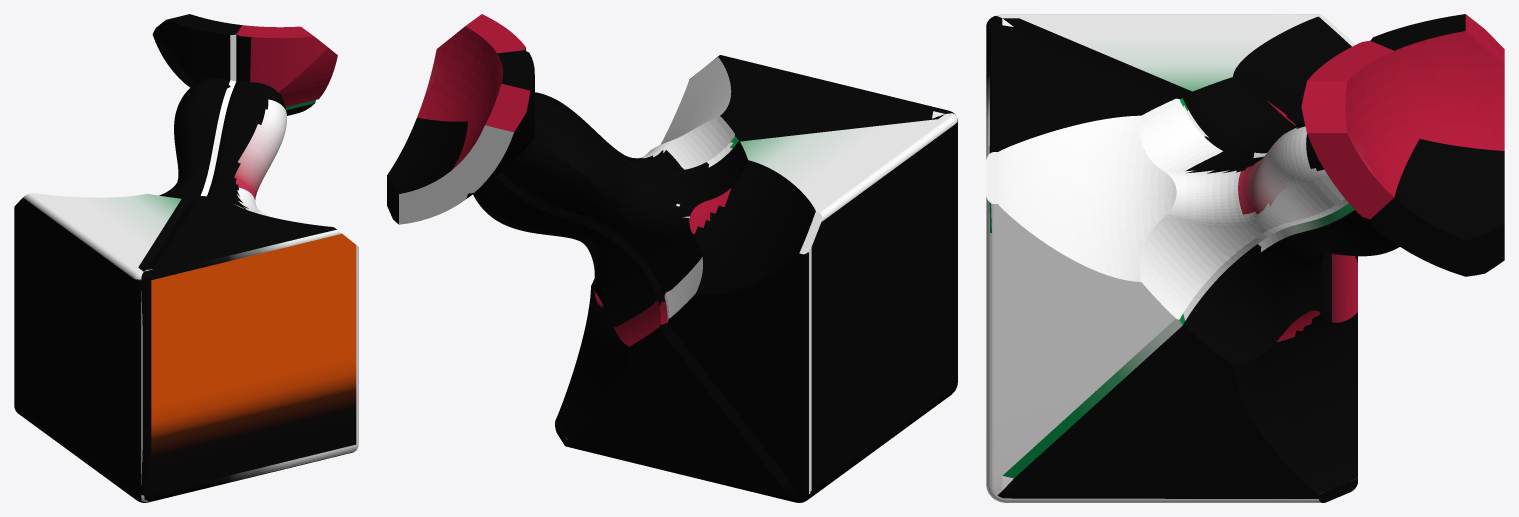
3 views of the same model, side by side, from view 1: azimuth 30°, elevation 25°; view 2: azimuth 150°, elevation 25°; view 3: azimuth 270°, elevation 25° (orthographic). The views are drawn at different scales.
Visible parts, largest first — view 1: Corner_Peice.002_Corner_Peice.001; view 2: Corner_Peice.002_Corner_Peice.001; view 3: Corner_Peice.002_Corner_Peice.001.
Boxes of the visible parts, x1,y1,x2,y2 form: Corner_Peice.002_Corner_Peice.001: [14, 14, 358, 502]; Corner_Peice.002_Corner_Peice.001: [387, 14, 957, 502]; Corner_Peice.002_Corner_Peice.001: [986, 14, 1504, 502].
Size of the model in its own units: 2.65 by 2.65 by 2.65.
